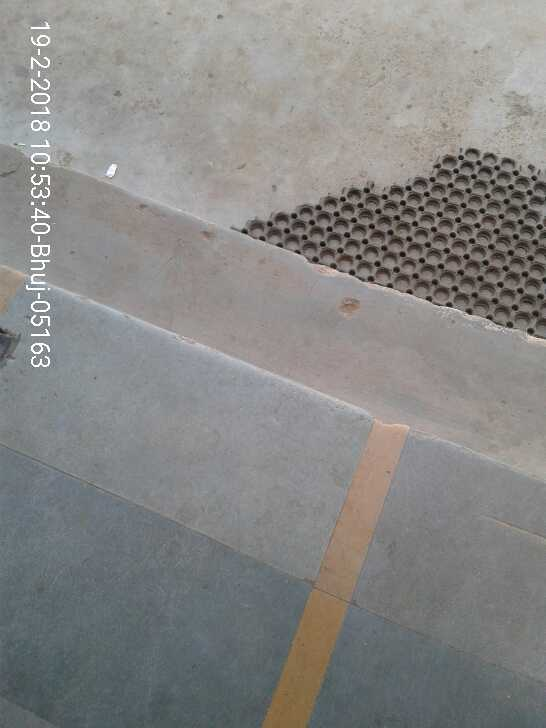reject: (241, 368, 303, 415)
